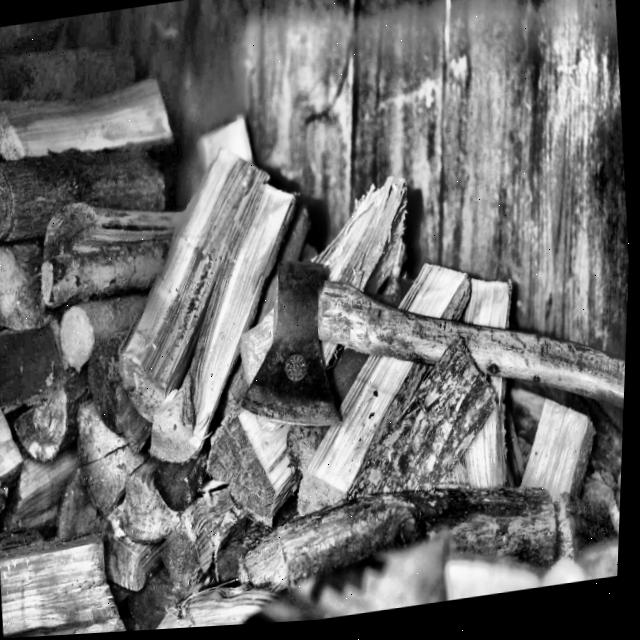kapak: (230, 257, 625, 429)
